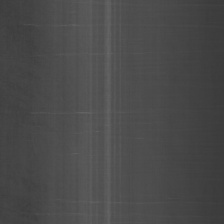waist_folding: (41, 11, 129, 217)
